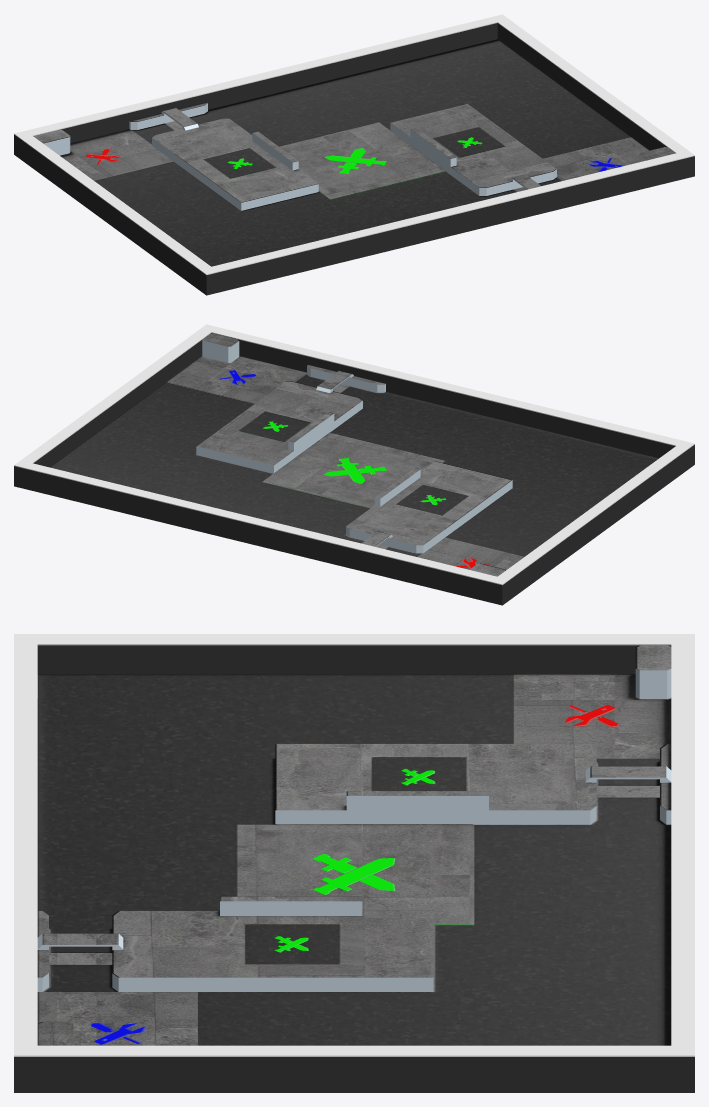
The model's file is github_field.dae.
3 views of the same model, one above another, from view 1: azimuth 30°, elevation 25°; view 2: azimuth 150°, elevation 25°; view 3: azimuth 270°, elevation 25° (orthographic). The views are drawn at different scales.
Parts seen in each view (by area): view 1: field; view 2: field; view 3: field.
Boxes of the visible parts, x1=… form: field: x1=14, y1=14, x2=694, y2=295; field: x1=14, y1=324, x2=694, y2=605; field: x1=14, y1=634, x2=694, y2=1092.
Size of the model in its own units: 12.6 by 8.6 by 0.52.
Materials: 7 (1 with a texture image).
